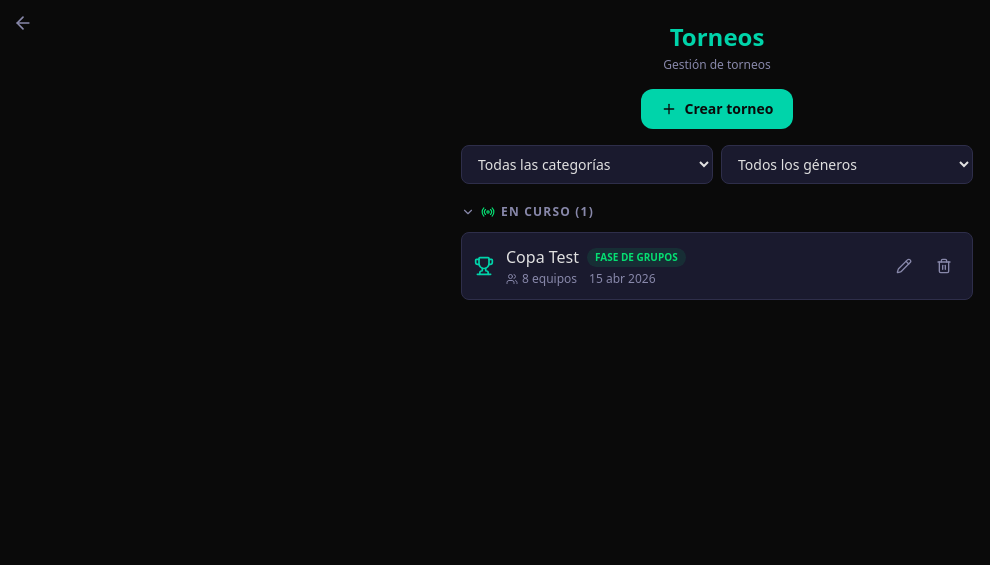
AdminTorneosPage › edit tournament › canceling edit closes the form without saving
The image size is (990, 565).
Click the button named "Editar torneo": point(904, 266) [888, 250, 920, 282]
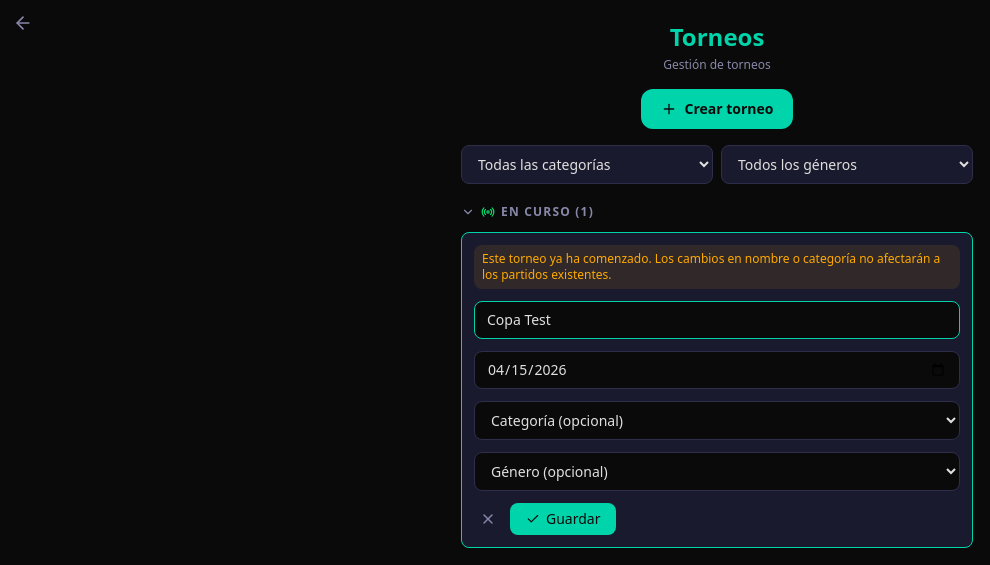
Click the button named "Cancelar edición": point(488, 519) [474, 505, 502, 533]
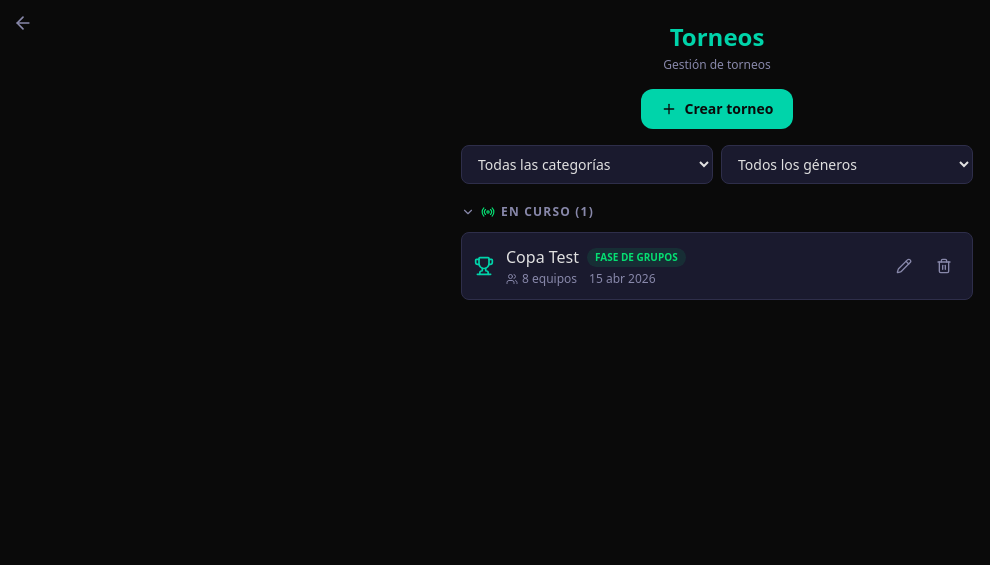
Result: the text "Copa Test" is shown at [506, 245, 579, 269]
